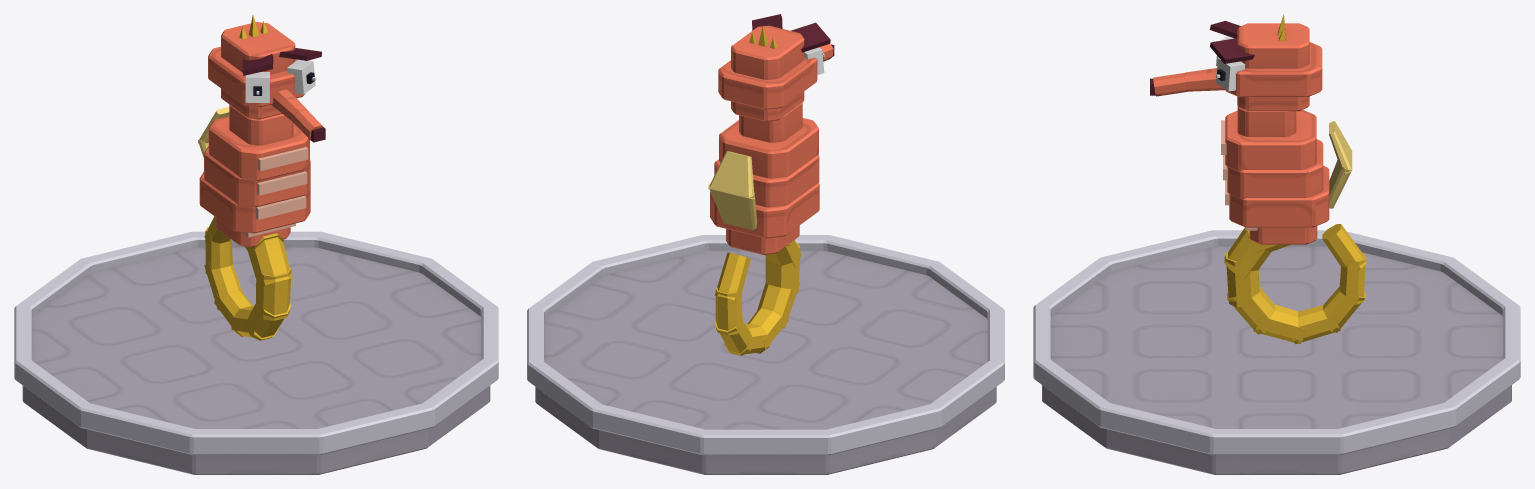
Rendered from RingSeahorse.fbx.
3 renders of one model, left to right at view 1: azimuth 30°, elevation 25°; view 2: azimuth 150°, elevation 25°; view 3: azimuth 270°, elevation 25°, orthographic.
Visible parts, largest first — view 1: Art_RingSeahorse_Stand, Art_RingSeahorse_Body, Art_RingSeahorse_Head; view 2: Art_RingSeahorse_Stand, Art_RingSeahorse_Body, Art_RingSeahorse_Head; view 3: Art_RingSeahorse_Stand, Art_RingSeahorse_Body, Art_RingSeahorse_Head.
Boxes of the visible parts, <box> form: Art_RingSeahorse_Stand: <box>14,231,498,474</box>; Art_RingSeahorse_Body: <box>198,104,310,340</box>; Art_RingSeahorse_Head: <box>208,14,325,142</box>; Art_RingSeahorse_Stand: <box>527,235,1004,474</box>; Art_RingSeahorse_Body: <box>708,102,819,355</box>; Art_RingSeahorse_Head: <box>718,14,834,121</box>; Art_RingSeahorse_Stand: <box>1033,230,1520,474</box>; Art_RingSeahorse_Body: <box>1221,106,1366,344</box>; Art_RingSeahorse_Head: <box>1150,14,1322,111</box>.
Bounding box in the file's own units: 2.8 × 2.3 × 2.8.
